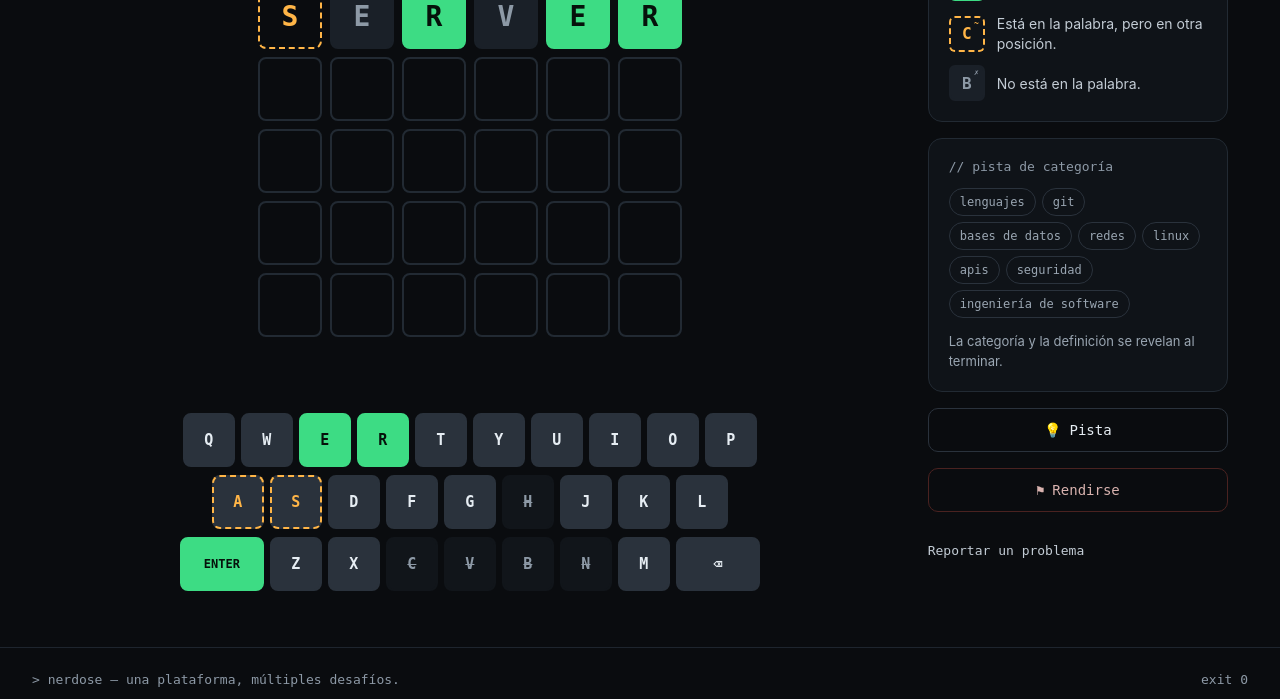
Scenario: formulario › TS-22: cancelar no envía y devuelve el foco al link
(page scrolled)
Click the button "Reportar un problema" at (1078, 550), box x1=928 y1=528 x2=1228 y2=572
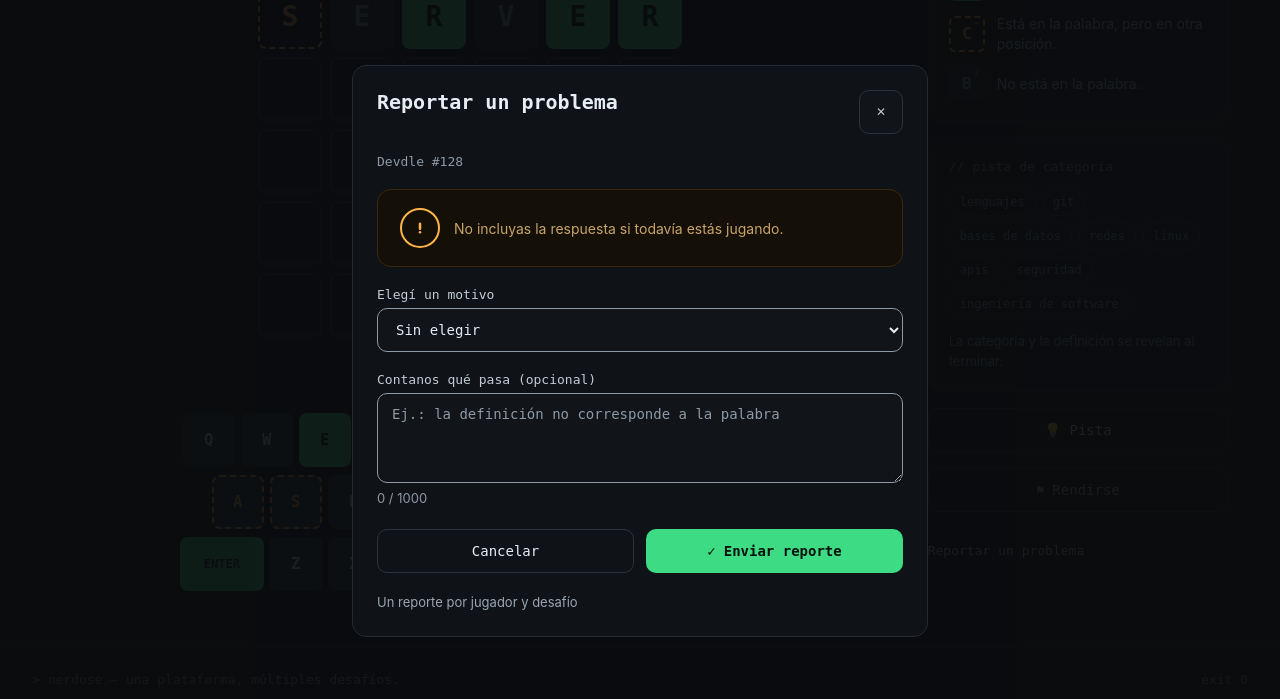
Select "Otro" in the dropdown labelled "Elegí un motivo" at (640, 330), box x1=377 y1=308 x2=903 y2=352
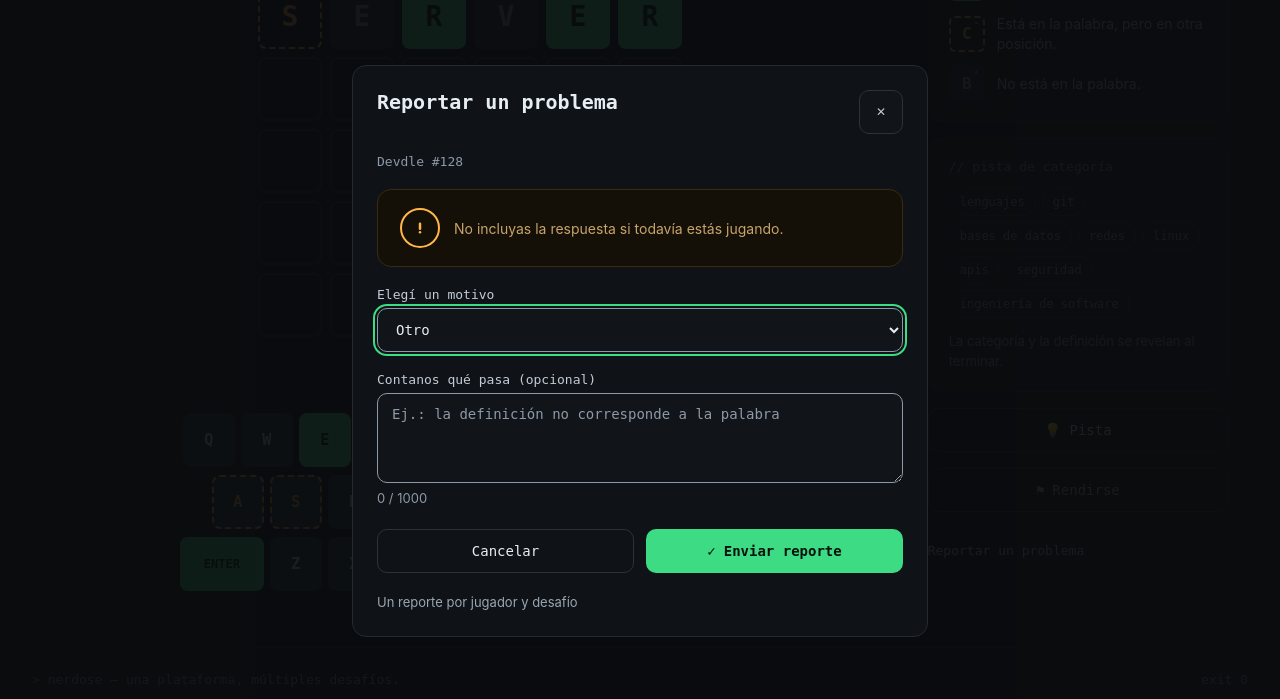
Click the button "Cancelar" at (506, 550), box x1=377 y1=528 x2=634 y2=572
(page scrolled)
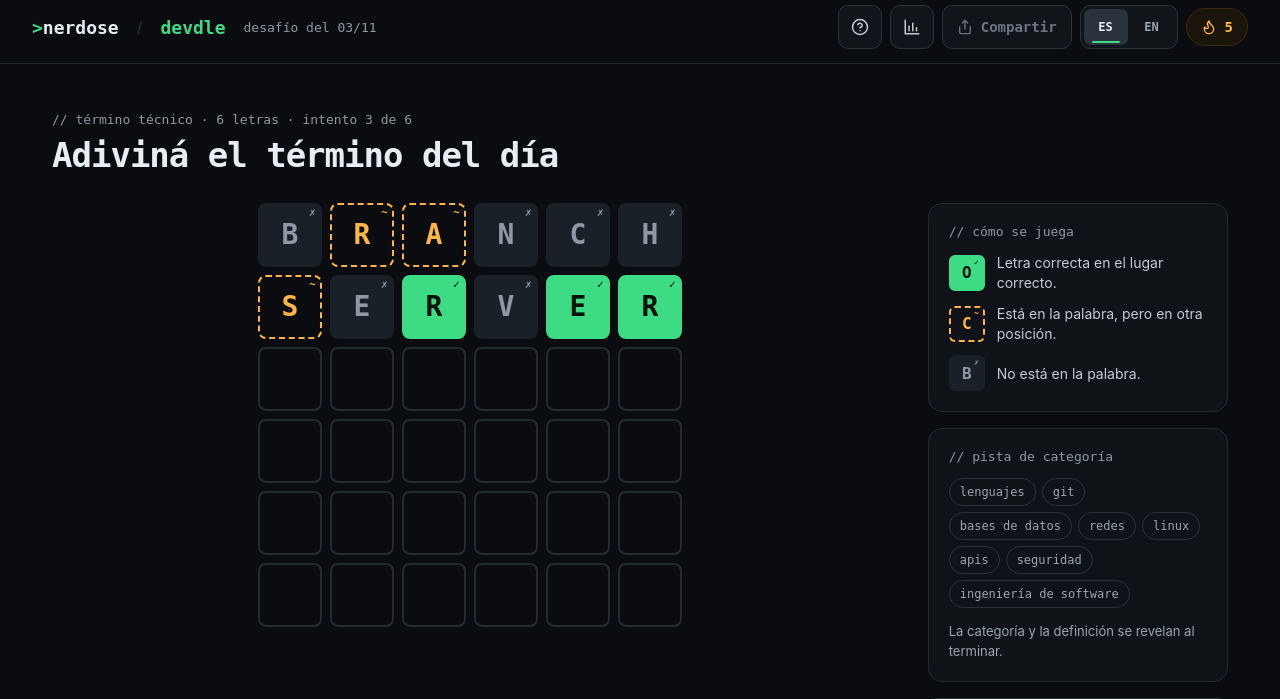
Expected: the text "// término técnico · 6 letras · intento 3 de 6" is shown, x1=52 y1=112 x2=412 y2=127
Expected: the dialog is gone
